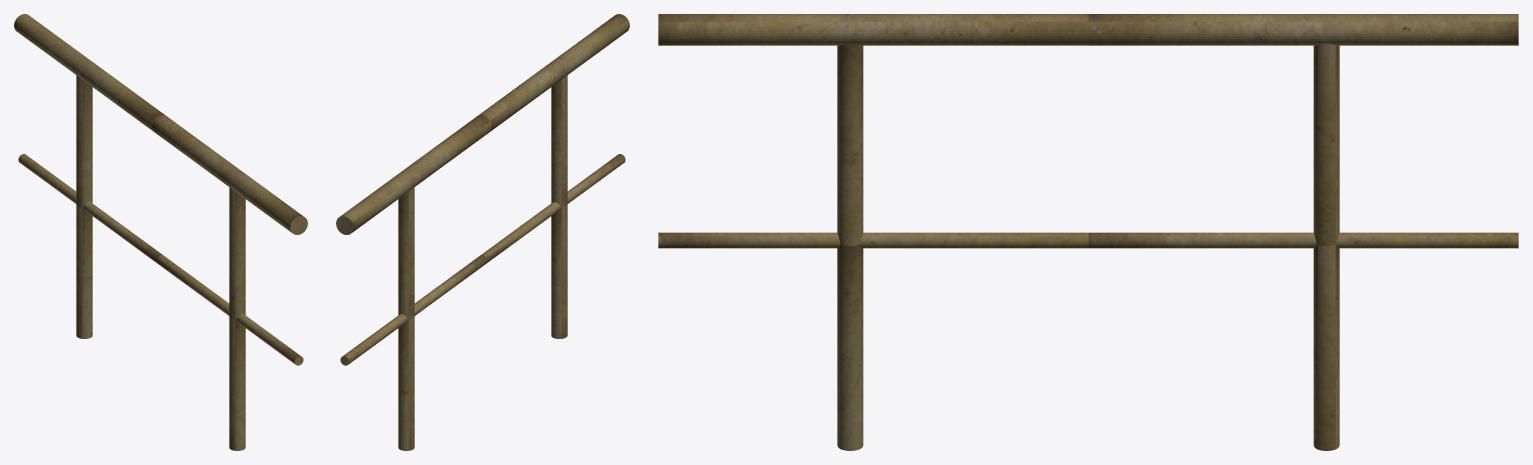
File: fence_middle.fbx
3 renders of one model, left to right at view 1: azimuth 30°, elevation 25°; view 2: azimuth 150°, elevation 25°; view 3: azimuth 270°, elevation 25°, orthographic. The views are drawn at different scales.
Visible parts, largest first — view 1: Circle; view 2: Circle; view 3: Circle.
Part boxes in pixels (x1,y1,x2,y2): Circle: [14, 14, 307, 450]; Circle: [336, 14, 629, 450]; Circle: [658, 14, 1518, 450].
Size of the model in its own units: 361 by 199 by 13.28.
Materials: 1 (1 with a texture image).
